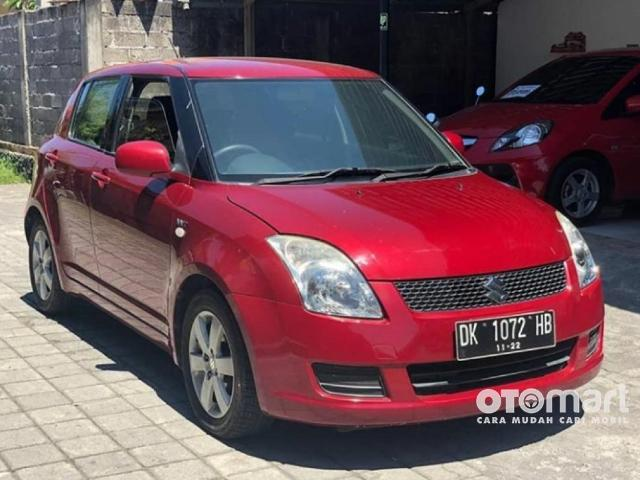plate: (456, 309, 555, 359)
